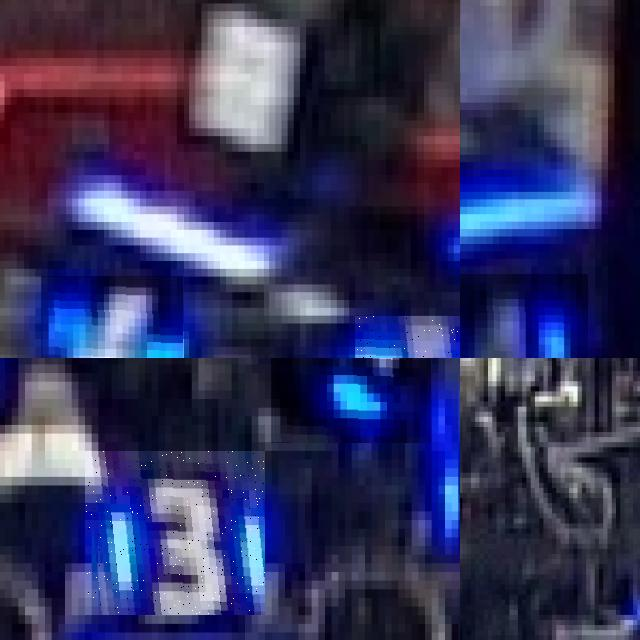B3: (85, 451, 265, 615), (271, 358, 431, 442)
B4: (41, 276, 182, 358), (460, 273, 588, 358), (355, 315, 460, 358)
